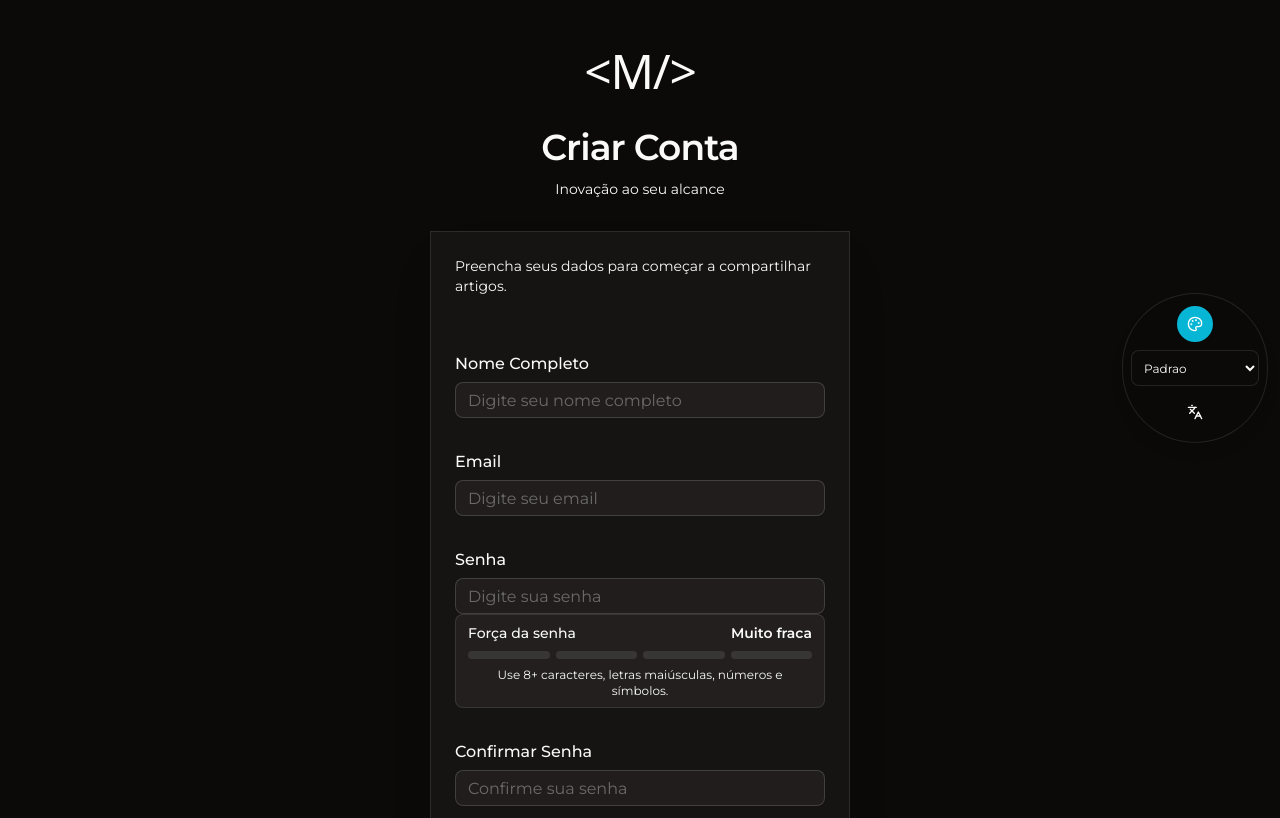
Test case: Authentication and private routes › validates password confirmation before creating an account
Type "Linus Torvalds" into the field labelled "Nome Completo".
click(640, 400); type("Linus Torvalds")  # box [455, 382, 825, 418]
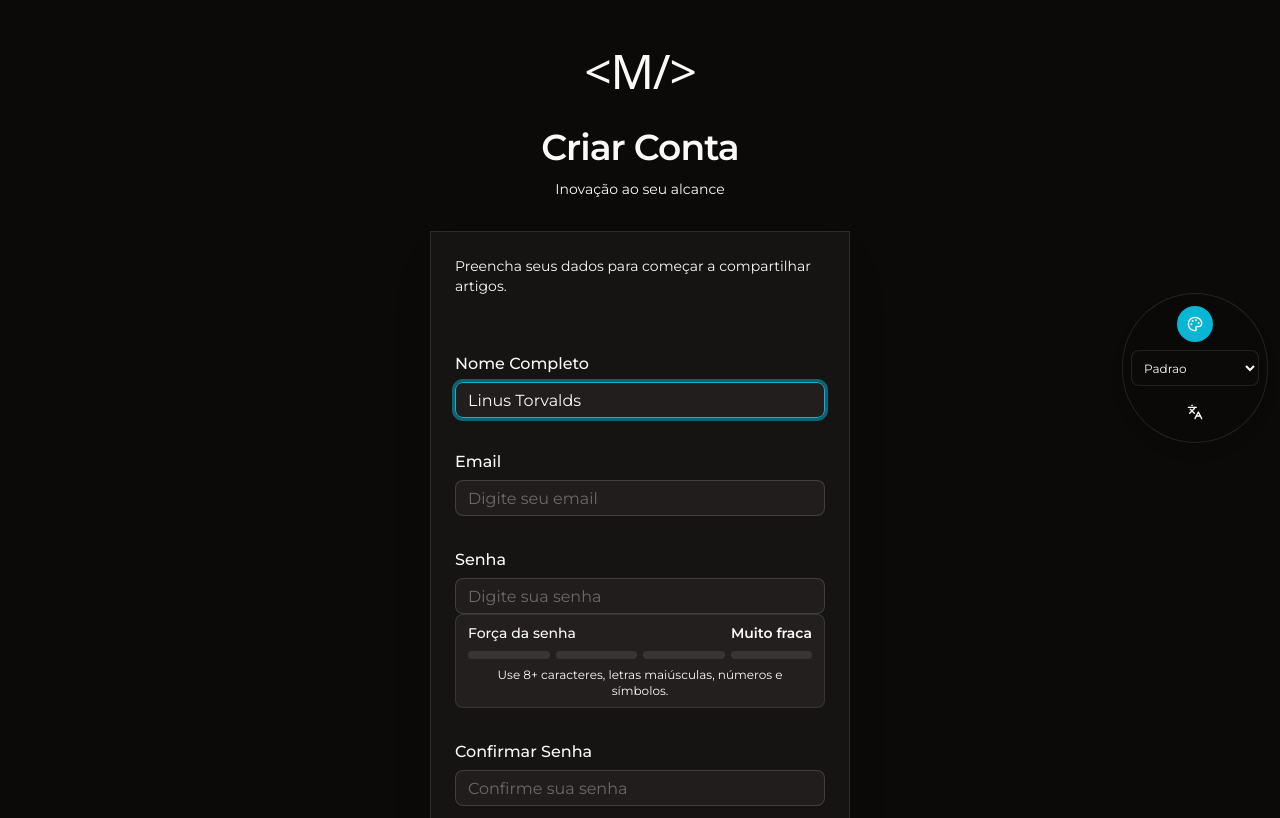
Type "linus@mindblog.test" into the field labelled "Email".
click(640, 498); type("linus@mindblog.test")  # box [455, 480, 825, 516]
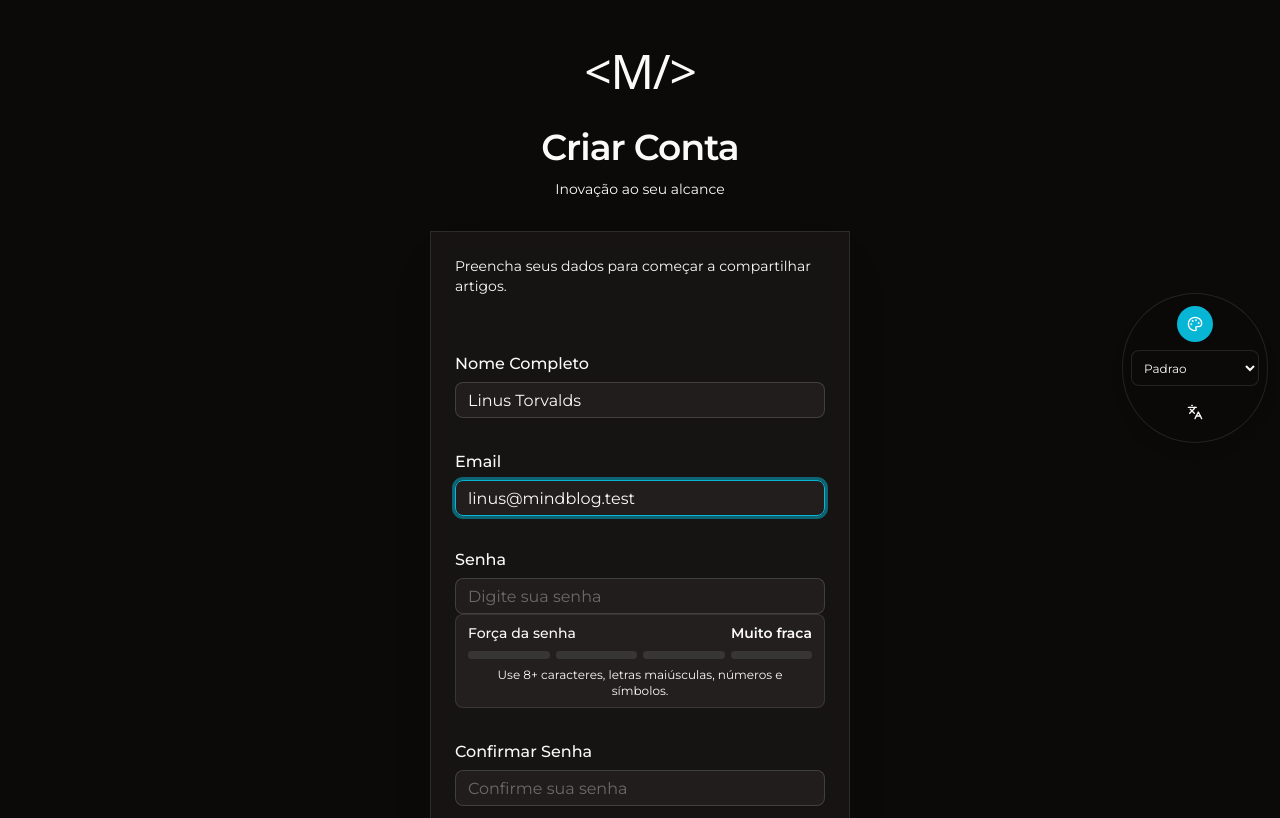
Type "strong-password" into the password field labelled "Senha".
click(640, 596); type("strong-password")  # box [455, 578, 825, 614]
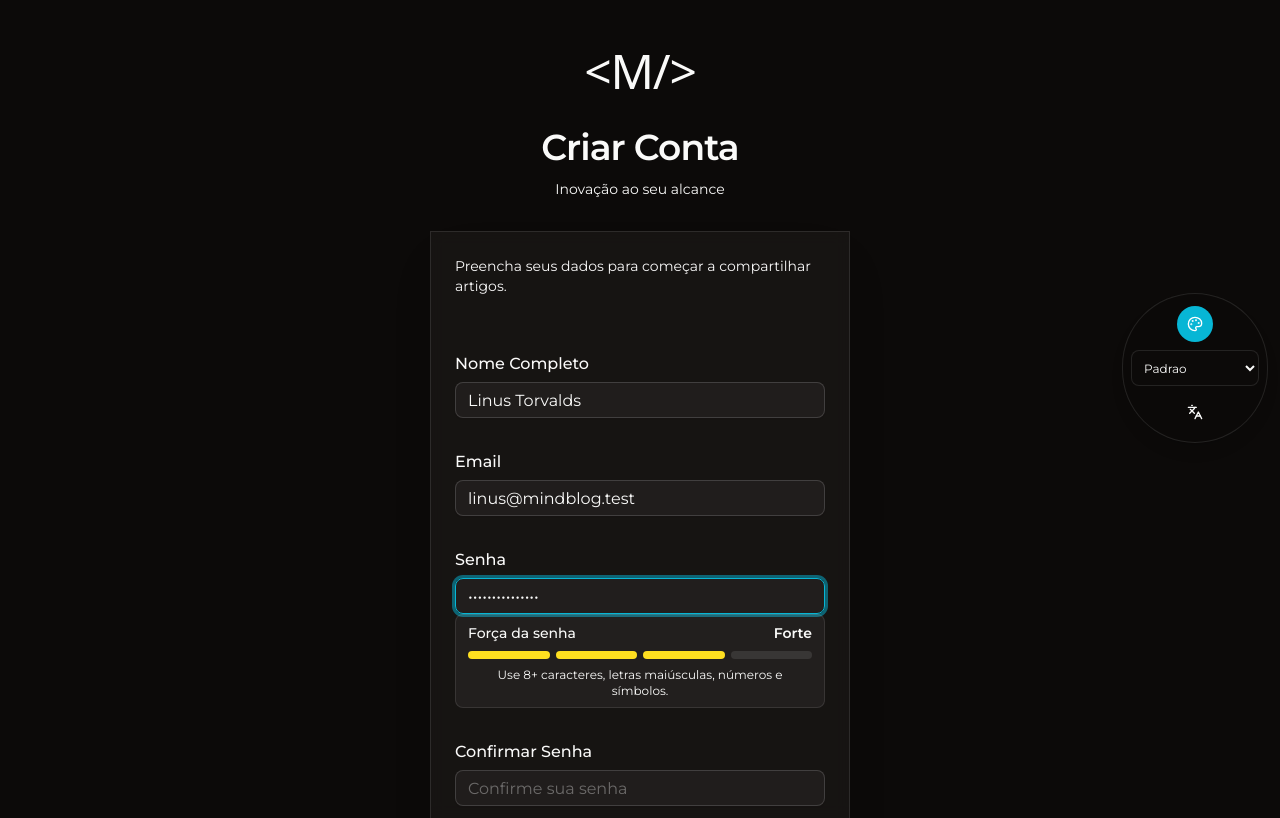
Type "different-password" into the password field labelled "Confirmar Senha".
click(640, 788); type("different-password")  # box [455, 770, 825, 806]
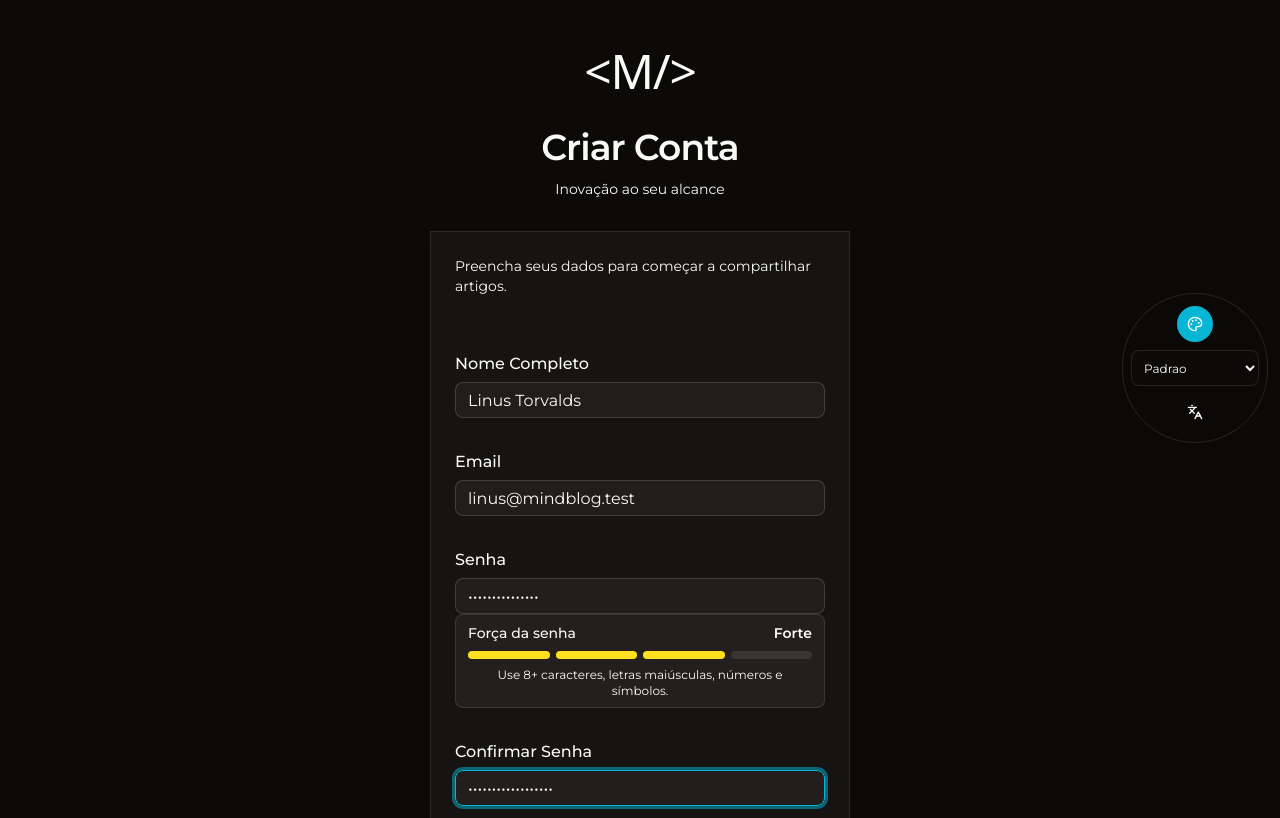
Scroll
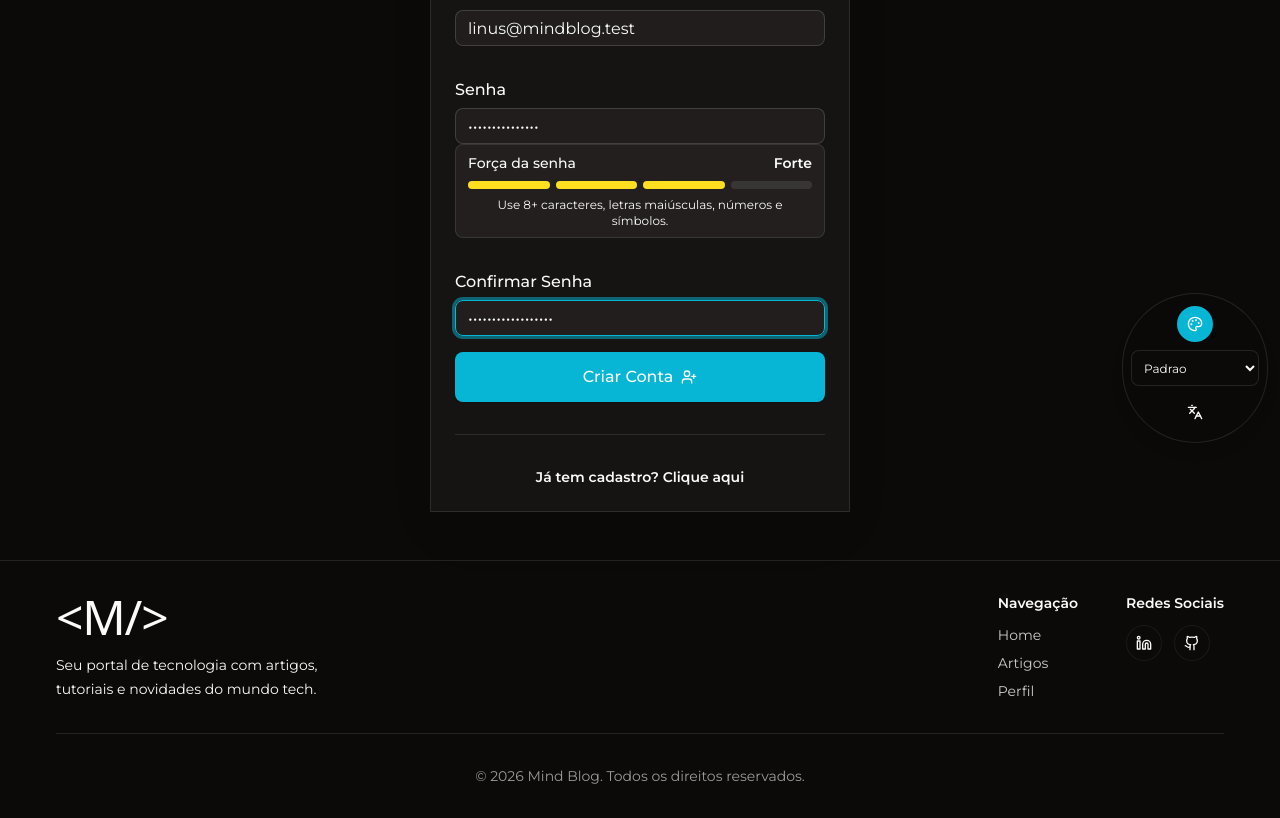
Click the button "Criar Conta".
click(640, 377)  # box [455, 352, 825, 402]
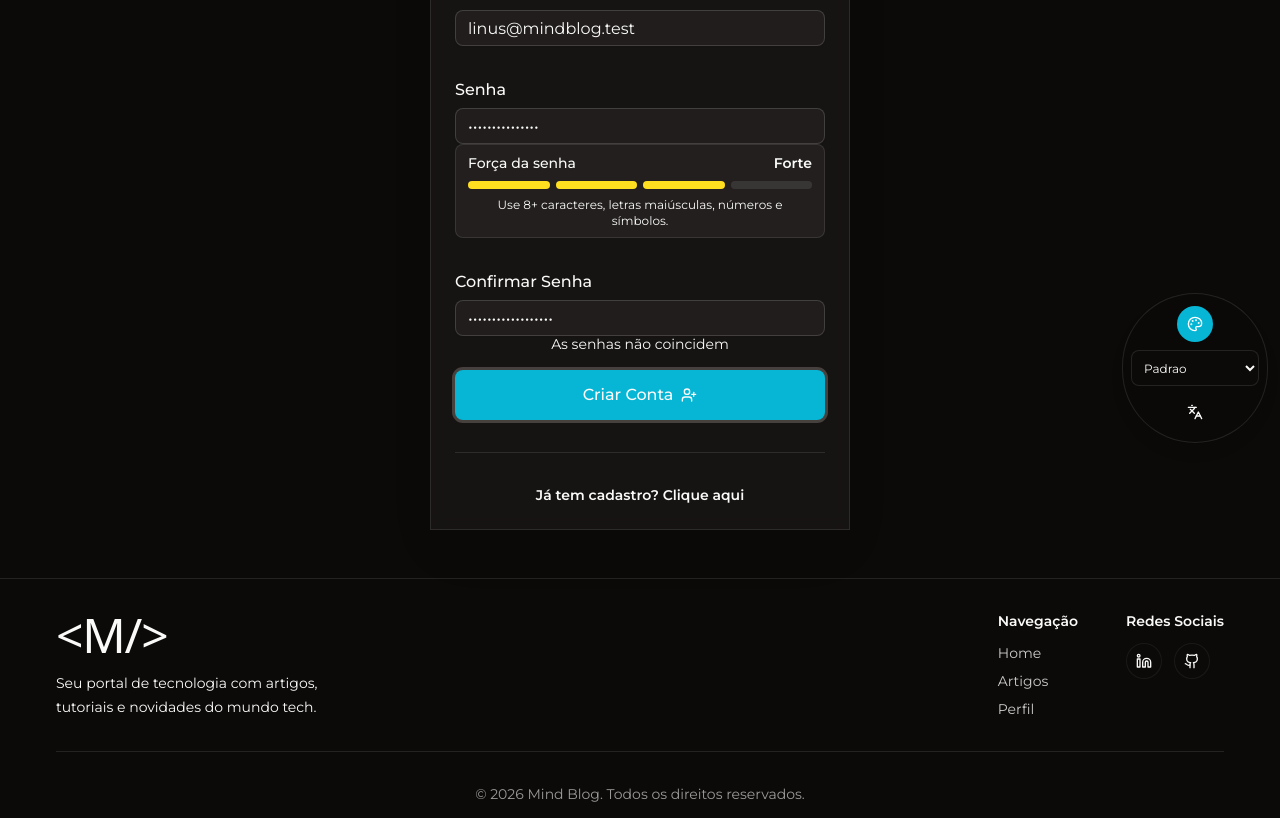
Expected: the text "As senhas não coincidem" is shown, [551, 335, 729, 353]
